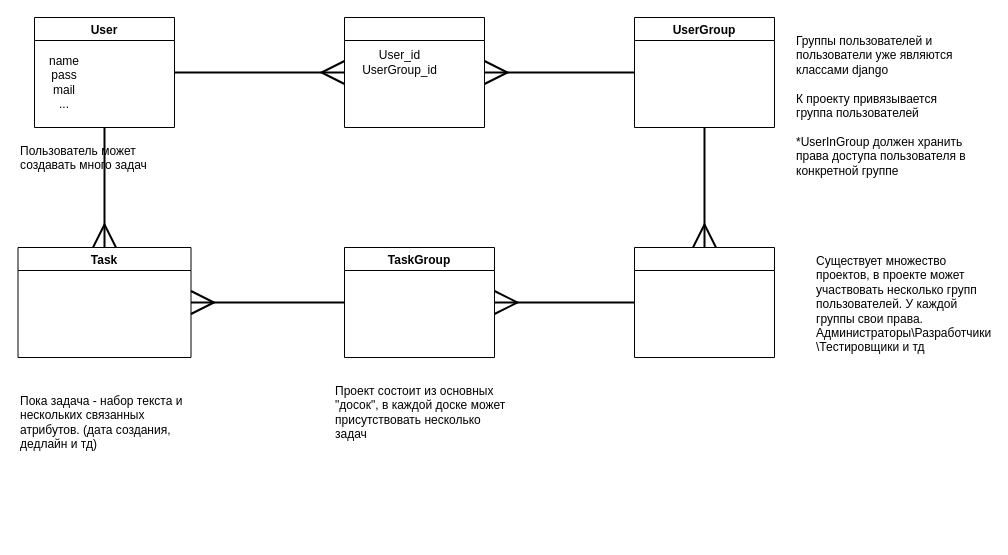
Some shapes in this 1008 by 555 pixel diagram are drawn without their labels. Each missing label, with the box of its shape:
Project: (634, 246, 774, 358)
UserInGroup: (344, 16, 484, 128)
